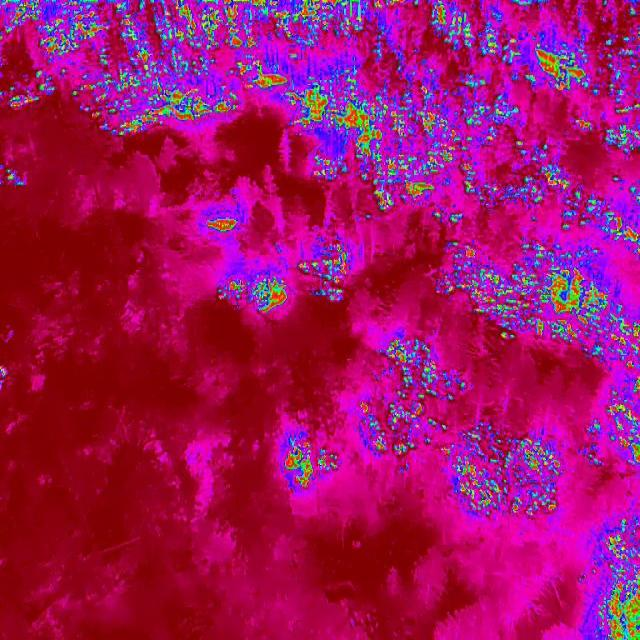fire: (0, 0, 640, 134), (313, 132, 640, 222), (439, 222, 640, 347), (349, 330, 470, 464), (444, 415, 564, 525), (583, 348, 640, 474), (586, 516, 640, 640), (292, 234, 353, 306), (218, 270, 292, 320), (288, 434, 342, 500), (201, 201, 247, 239), (0, 164, 24, 195)
